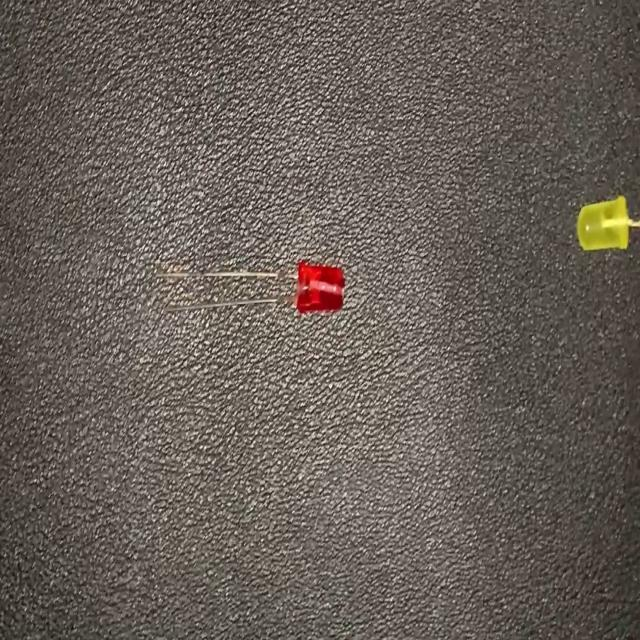LED: (152, 255, 348, 320)
missing-leg: (577, 194, 640, 253)
